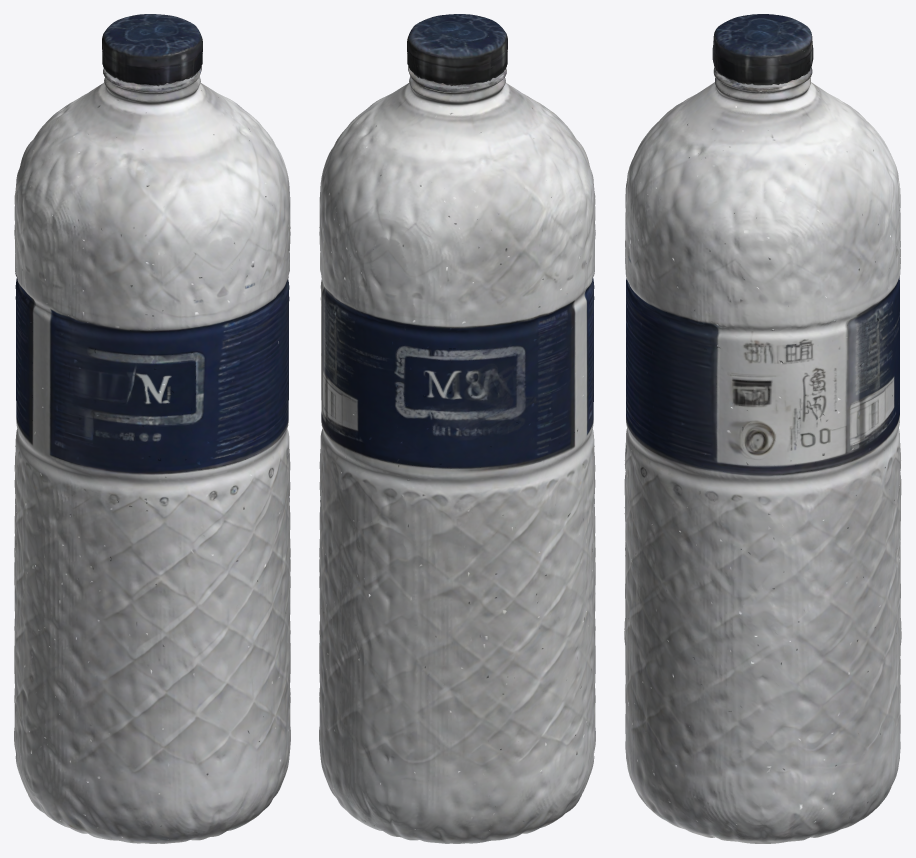
Rendered from Water_Bottle_with_Blu_0318090832_texture.fbx.
3 views of the same model, side by side, from view 1: azimuth 30°, elevation 25°; view 2: azimuth 150°, elevation 25°; view 3: azimuth 270°, elevation 25° (orthographic).
Parts seen in each view (by area): view 1: Mesh1_Mesh1.003; view 2: Mesh1_Mesh1.003; view 3: Mesh1_Mesh1.003.
Boxes of the visible parts, bbox=[...] form: Mesh1_Mesh1.003: bbox=[14, 14, 290, 843]; Mesh1_Mesh1.003: bbox=[319, 14, 595, 843]; Mesh1_Mesh1.003: bbox=[624, 14, 901, 843].
Bounding box in the file's own units: 65.94 × 200 × 65.5.
1 material, 1 textured.
